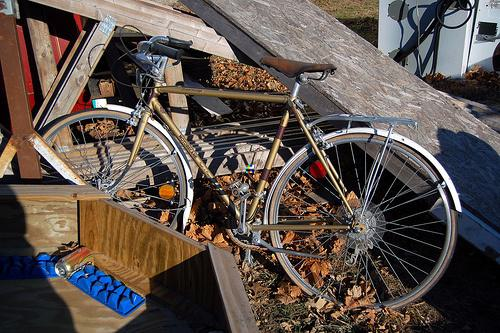car: (37, 25, 463, 313)
